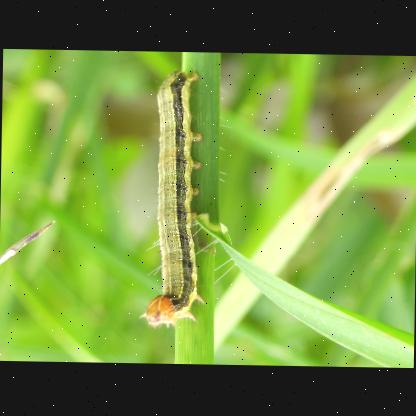Fall Armyworm Larvae: (136, 64, 212, 333)
